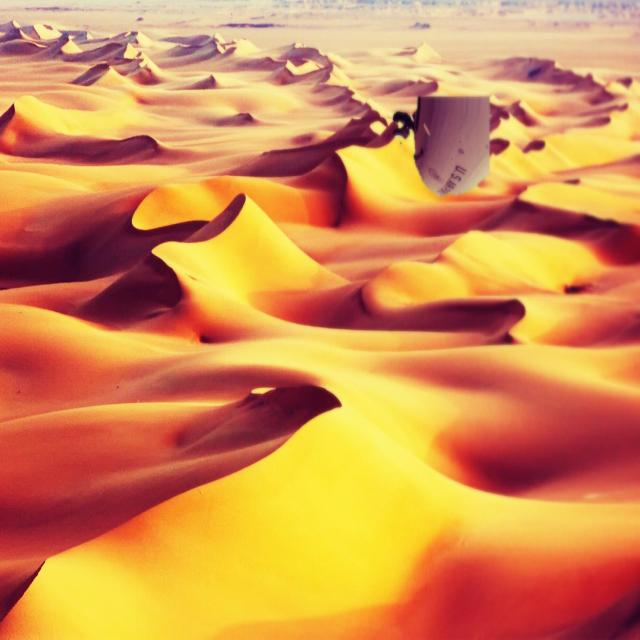airplane: (393, 95, 490, 197)
